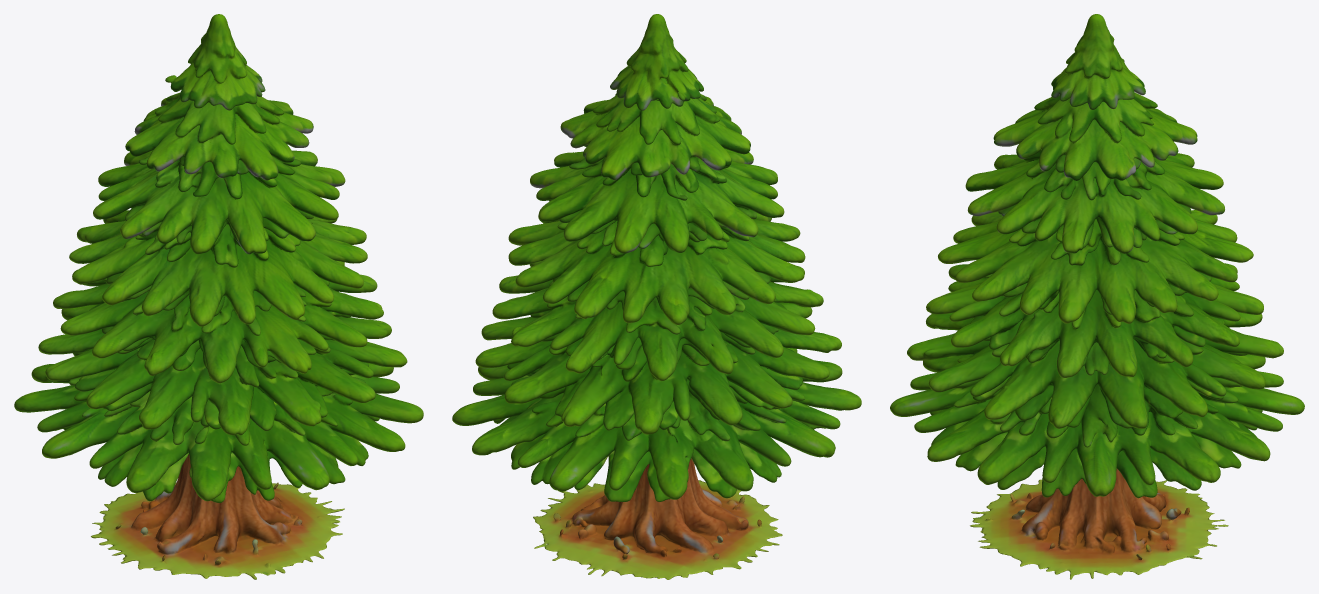
Rendered from farm_pine.glb.
3 views of the same model, side by side, from view 1: azimuth 30°, elevation 25°; view 2: azimuth 150°, elevation 25°; view 3: azimuth 270°, elevation 25° (orthographic).
Parts seen in each view (by area): view 1: tripo_node_5a88738b-6ecd-4a91-aebc-8b9e59ce288e; view 2: tripo_node_5a88738b-6ecd-4a91-aebc-8b9e59ce288e; view 3: tripo_node_5a88738b-6ecd-4a91-aebc-8b9e59ce288e.
Part boxes in pixels (bbox=[...]): tripo_node_5a88738b-6ecd-4a91-aebc-8b9e59ce288e: bbox=[14, 14, 423, 579]; tripo_node_5a88738b-6ecd-4a91-aebc-8b9e59ce288e: bbox=[452, 14, 861, 579]; tripo_node_5a88738b-6ecd-4a91-aebc-8b9e59ce288e: bbox=[890, 14, 1304, 579].
Bounding box in the file's own units: 0.7143 × 1 × 0.7323.
1 material, 1 textured.
